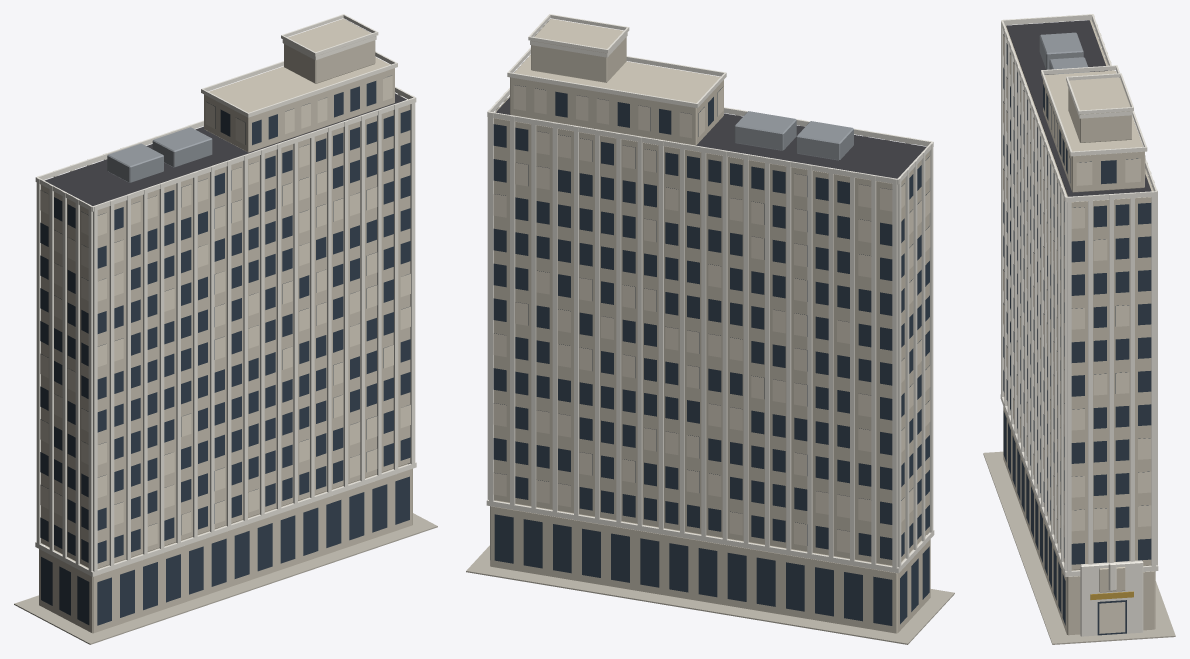
The model's file is 155-sansome-street.glb.
The picture shows the model from 3 angles, left to right: view 1: azimuth 30°, elevation 25°; view 2: azimuth 150°, elevation 25°; view 3: azimuth 270°, elevation 25°; orthographic projection. The views are drawn at different scales.
Visible parts, largest first — view 1: 155-sansome-street_body, 155-sansome-street_night_glow; view 2: 155-sansome-street_body, 155-sansome-street_night_glow; view 3: 155-sansome-street_body, 155-sansome-street_night_glow.
Part boxes in pixels (bbox=[...]): 155-sansome-street_body: bbox=[14, 14, 437, 644]; 155-sansome-street_night_glow: bbox=[40, 19, 410, 546]; 155-sansome-street_body: bbox=[466, 14, 954, 644]; 155-sansome-street_night_glow: bbox=[493, 19, 930, 552]; 155-sansome-street_body: bbox=[983, 14, 1175, 644]; 155-sansome-street_night_glow: bbox=[1003, 34, 1151, 633].
Size of the model in its own units: 53.55 by 64.05 by 21.9.
